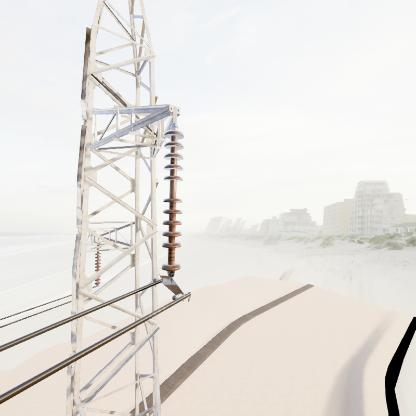insulator: (157, 126, 186, 275)
